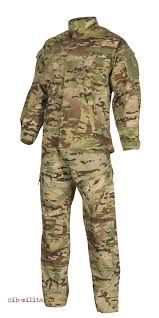uniform: (40, 28, 119, 303)
